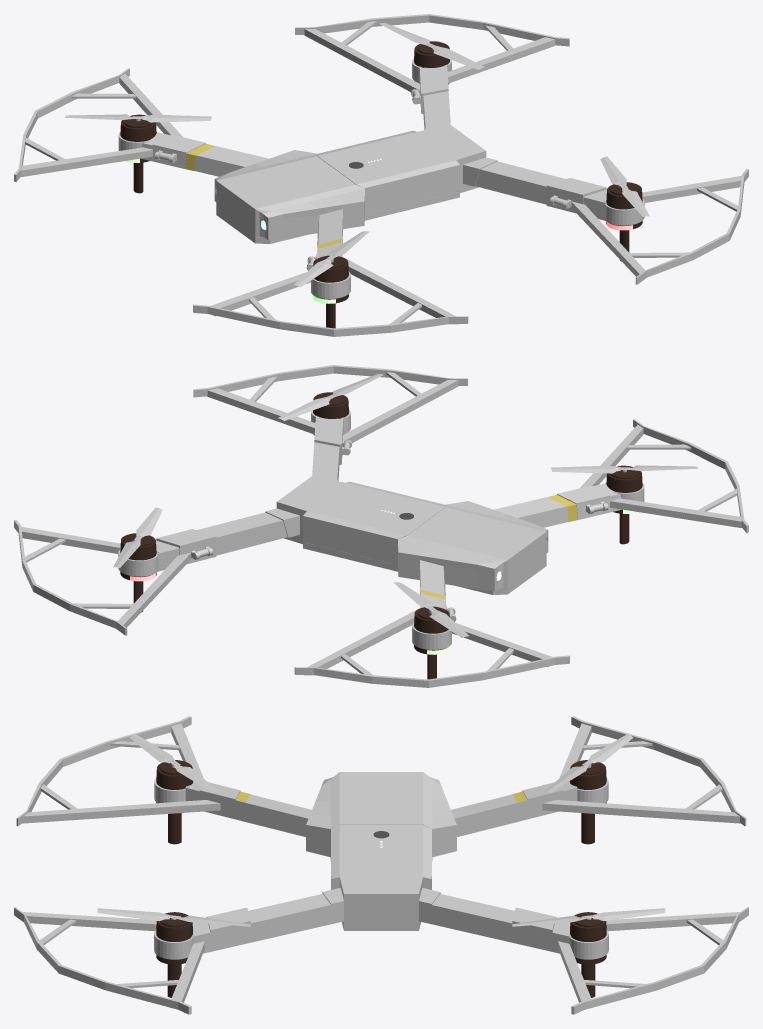
File: Dronedraft.gltf
The picture shows the model from 3 angles, top to bottom: view 1: azimuth 30°, elevation 25°; view 2: azimuth 150°, elevation 25°; view 3: azimuth 270°, elevation 25°; orthographic projection. The views are drawn at different scales.
Visible parts, largest first — view 1: Cube.030; view 2: Cube.030; view 3: Cube.030.
Part boxes in pixels (bbox=[...]): Cube.030: bbox=[14, 14, 748, 336]; Cube.030: bbox=[14, 365, 748, 687]; Cube.030: bbox=[14, 716, 748, 1014].
Bounding box in the file's own units: 10.93 × 1.38 × 11.65.
